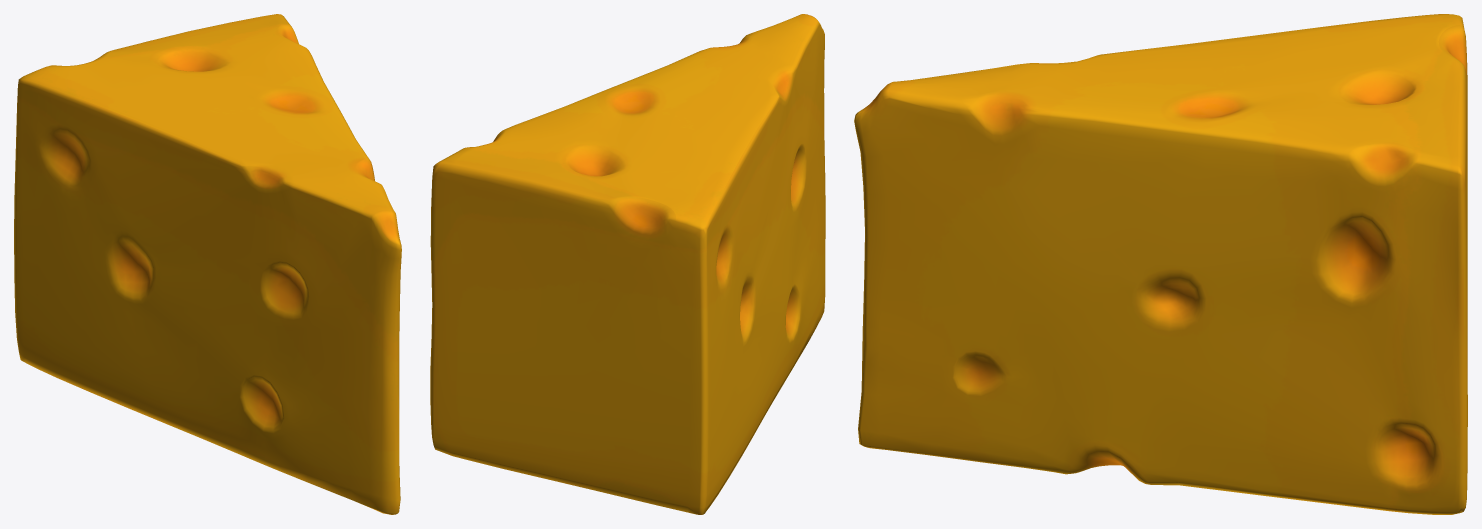
File: cheese.fbx
The picture shows the model from 3 angles, left to right: view 1: azimuth 30°, elevation 25°; view 2: azimuth 150°, elevation 25°; view 3: azimuth 270°, elevation 25°; orthographic projection. The views are drawn at different scales.
Parts seen in each view (by area): view 1: node_id30; view 2: node_id30; view 3: node_id30.
Part boxes in pixels (bbox=[...]): node_id30: bbox=[14, 14, 401, 514]; node_id30: bbox=[430, 14, 825, 514]; node_id30: bbox=[854, 14, 1467, 514].
Bounding box in the file's own units: 0.4835 × 0.512 × 0.7767.
Materials: 1 (1 with a texture image).
